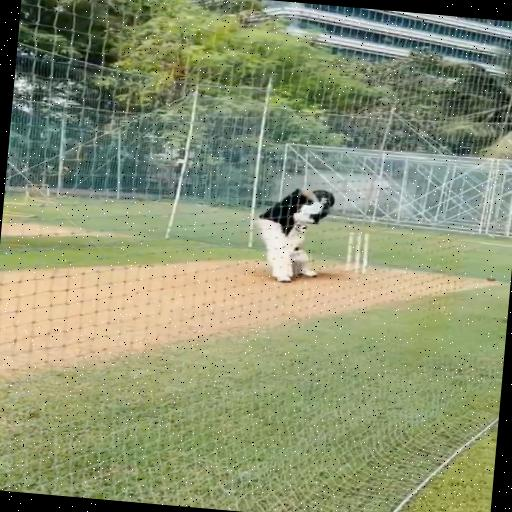Cricket bat: (289, 224, 306, 251)
